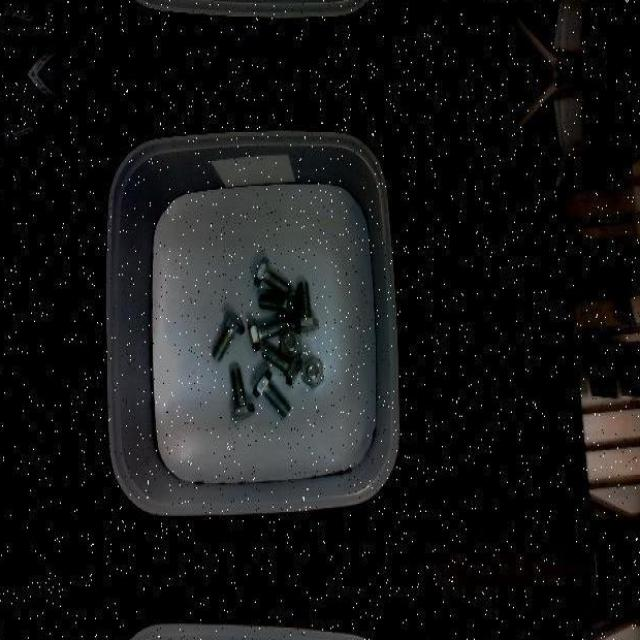screw: (253, 368, 292, 417), (212, 311, 245, 362), (254, 256, 292, 295), (262, 345, 300, 384), (250, 316, 289, 350), (230, 368, 255, 420), (294, 282, 319, 333), (260, 288, 299, 319), (302, 354, 324, 390), (282, 329, 302, 360)
